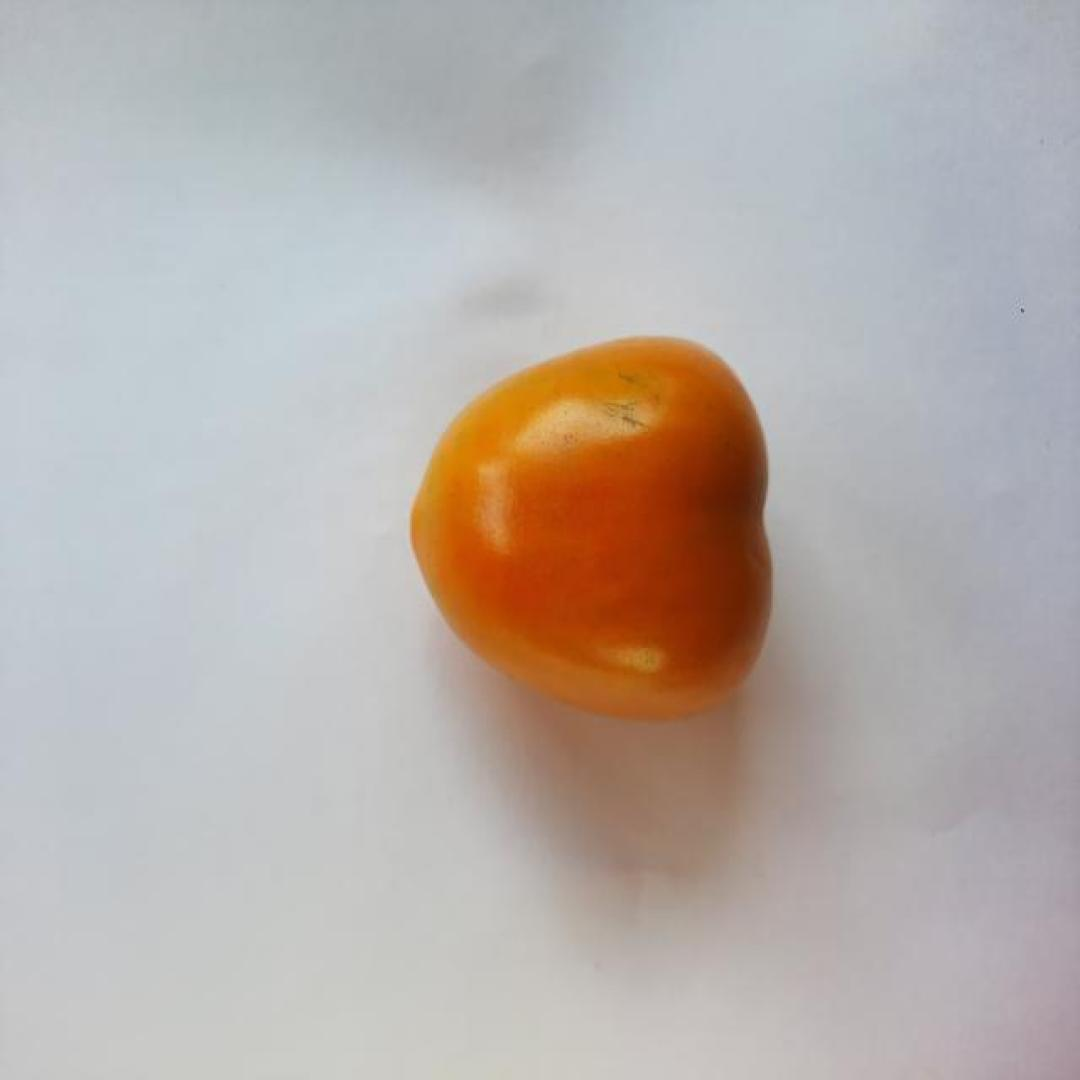setengah_matang: (408, 331, 777, 724)
